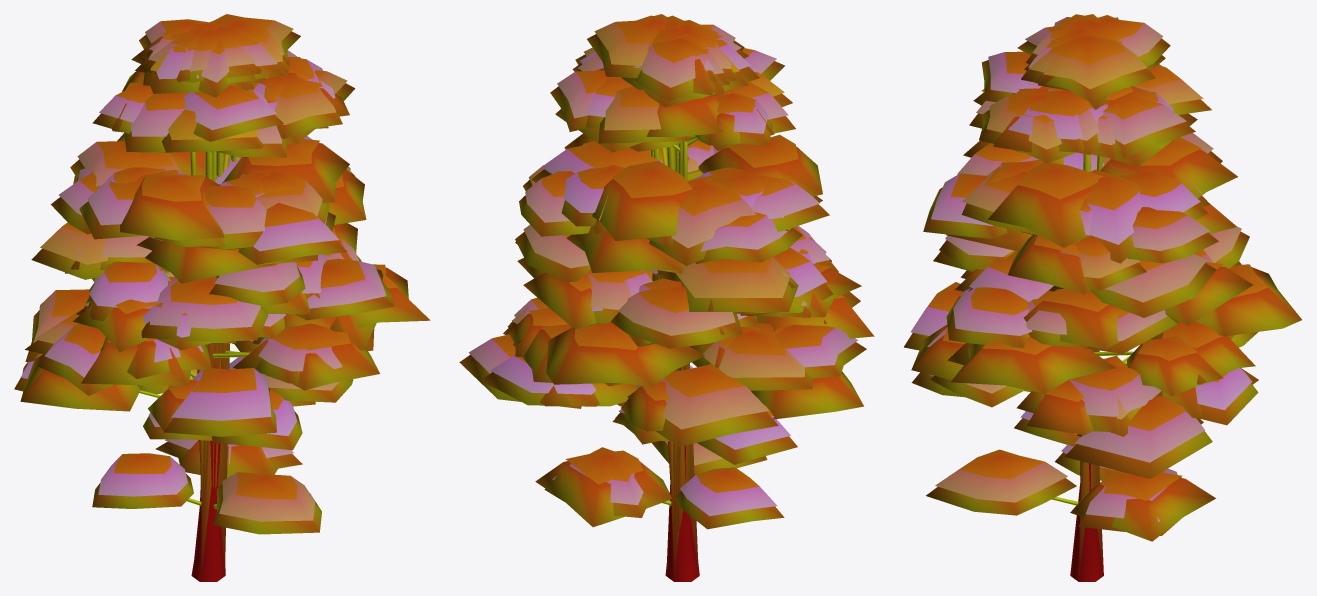
File: whitepine.glb
3 renders of one model, left to right at view 1: azimuth 30°, elevation 25°; view 2: azimuth 150°, elevation 25°; view 3: azimuth 270°, elevation 25°, orthographic.
Visible parts, largest first — view 1: v4, v6, v0, v2, v3, v5, v9, v7, v8, v4_far, v1, v5_far (+6 smaller); view 2: v4, v6, v3, v0, v2, v9, v8, v4_far, v1, v7, v9_far, v0_far (+7 smaller); view 3: v3, v4, v9, v6, v2, v0, v7, v4_far, v5, v8, v1, v0_far (+7 smaller).
Boxes of the visible parts, x1,y1,x2,y2 form: v4: [14, 28, 376, 450]; v6: [25, 22, 326, 436]; v0: [20, 27, 357, 581]; v2: [92, 151, 321, 534]; v3: [51, 21, 430, 581]; v5: [73, 29, 394, 351]; v9: [145, 14, 366, 581]; v7: [37, 23, 379, 395]; v8: [89, 19, 309, 500]; v4_far: [31, 59, 262, 343]; v1: [106, 46, 361, 349]; v5_far: [76, 31, 268, 315]; v4: [515, 31, 874, 464]; v6: [507, 28, 833, 446]; v3: [519, 15, 860, 568]; v0: [515, 32, 863, 581]; v2: [535, 141, 784, 529]; v9: [509, 14, 822, 581]; v8: [523, 38, 774, 516]; v4_far: [459, 80, 798, 408]; v1: [561, 29, 831, 346]; v7: [513, 22, 866, 384]; v9_far: [636, 15, 812, 578]; v0_far: [481, 36, 788, 581]; v3: [923, 26, 1301, 568]; v4: [911, 14, 1237, 436]; v9: [927, 35, 1236, 567]; v6: [904, 18, 1222, 432]; v2: [926, 411, 1215, 541]; v0: [930, 18, 1258, 581]; v7: [911, 35, 1255, 384]; v4_far: [1064, 395, 1212, 478]; v5: [946, 17, 1133, 347]; v8: [955, 15, 1257, 413]; v1: [999, 24, 1241, 347]; v0_far: [1063, 17, 1258, 580].
Bounding box in the file's own units: 8.97 × 12.47 × 8.15.
